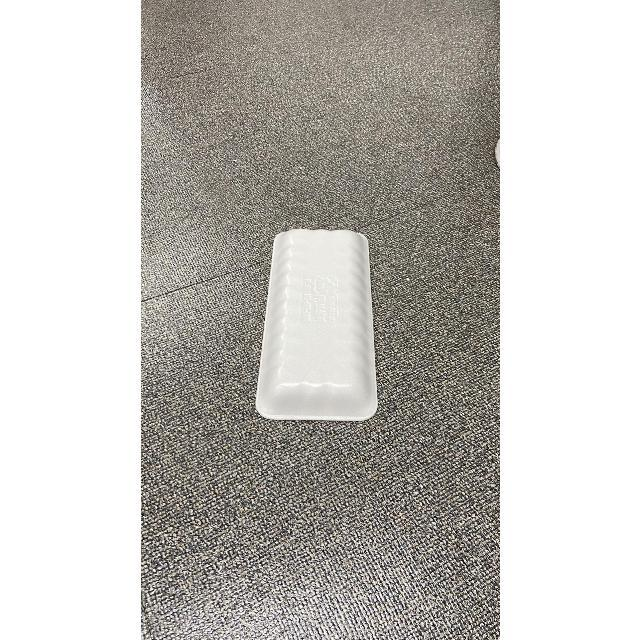Plastico descartable: (255, 230, 379, 423)
